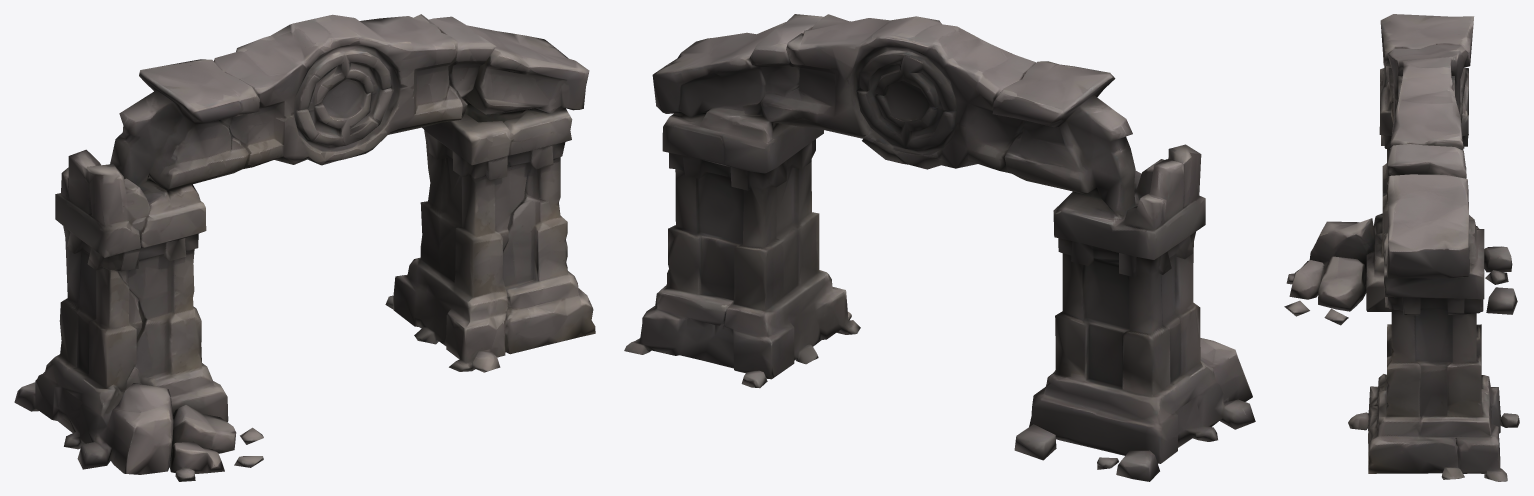
File: grand_arch.glb
3 views of the same model, side by side, from view 1: azimuth 30°, elevation 25°; view 2: azimuth 150°, elevation 25°; view 3: azimuth 270°, elevation 25° (orthographic). The views are drawn at different scales.
Parts seen in each view (by area): view 1: tripo_node_3c403dc9-055d-4095-9a30-a7e6b92551ff; view 2: tripo_node_3c403dc9-055d-4095-9a30-a7e6b92551ff; view 3: tripo_node_3c403dc9-055d-4095-9a30-a7e6b92551ff.
Boxes of the visible parts, box(x1,y1,x2,y2) form: tripo_node_3c403dc9-055d-4095-9a30-a7e6b92551ff: box(14, 14, 595, 481); tripo_node_3c403dc9-055d-4095-9a30-a7e6b92551ff: box(624, 14, 1255, 481); tripo_node_3c403dc9-055d-4095-9a30-a7e6b92551ff: box(1284, 14, 1519, 481).
Bounding box in the file's own units: 1 × 0.6185 × 0.4267.
1 material, 1 textured.
